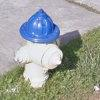Hydrant: (13, 7, 69, 95)
